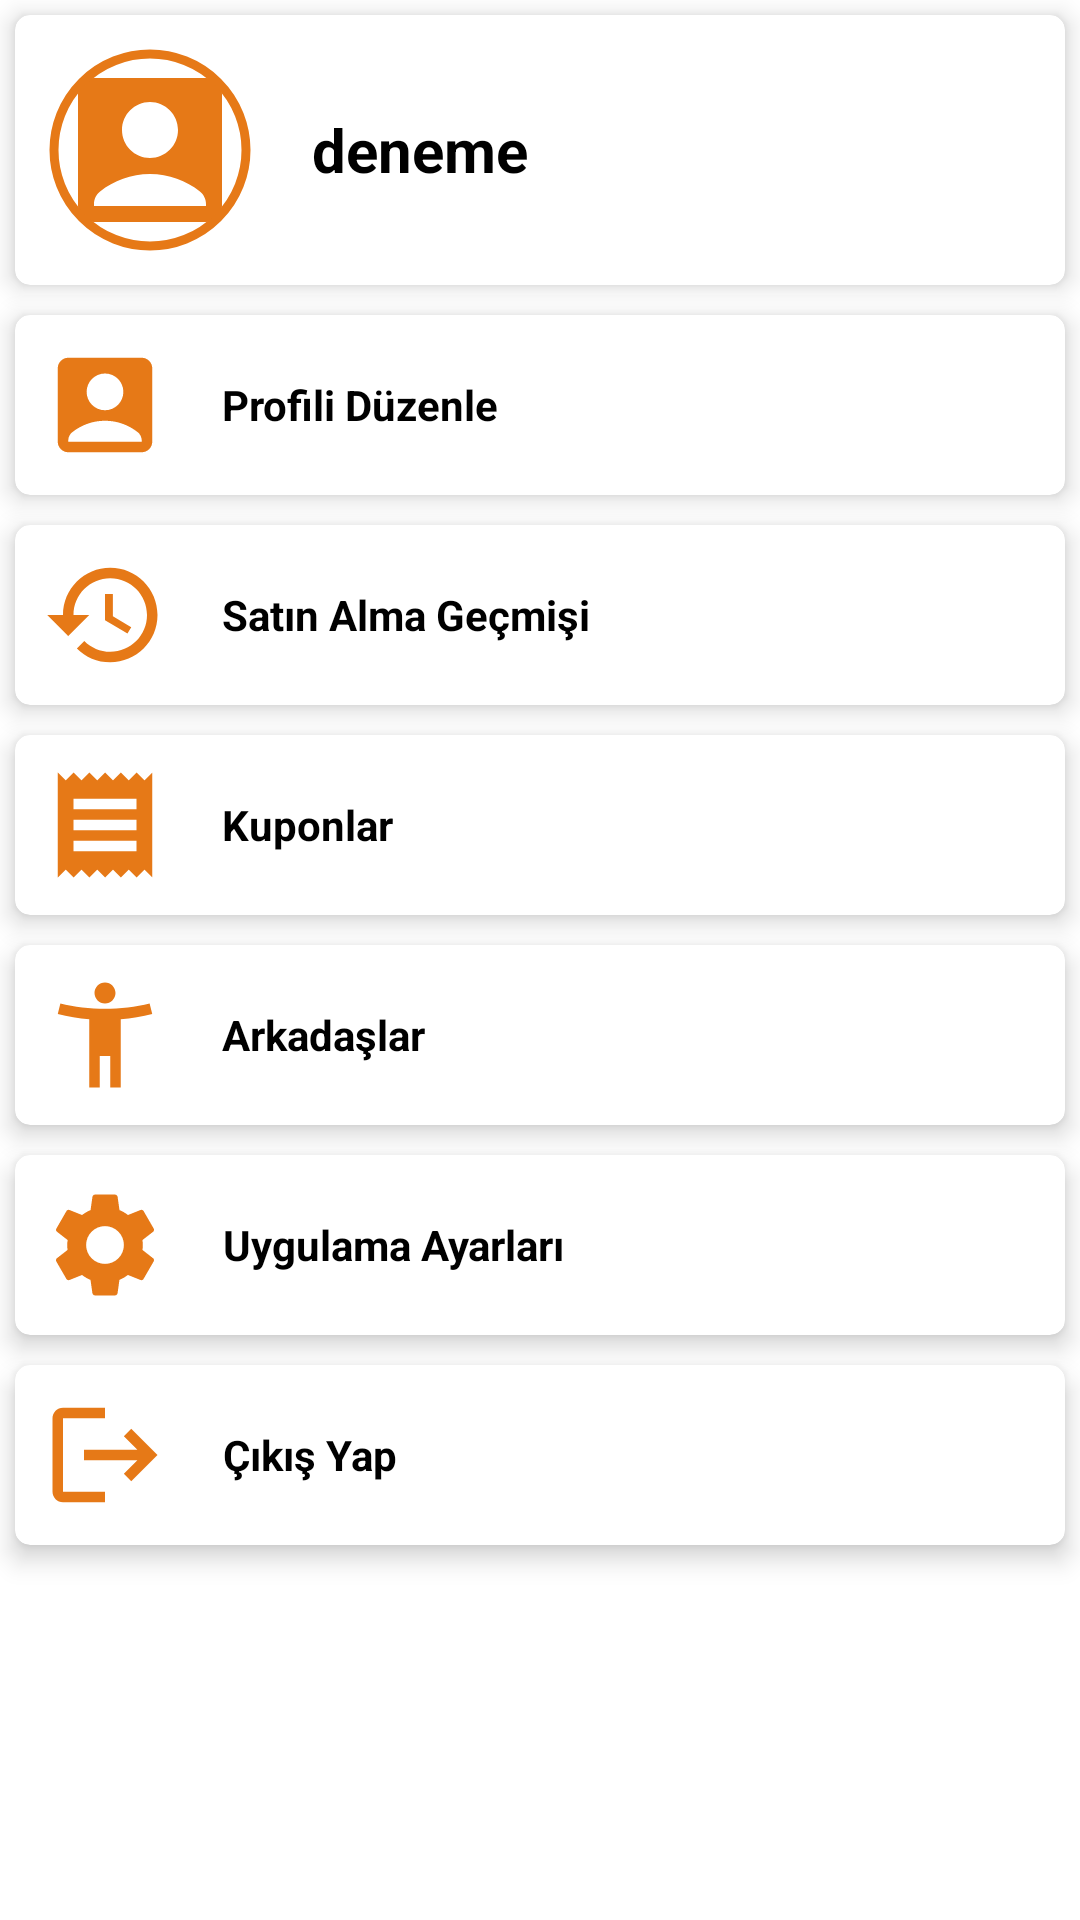

Where icons sit on this 1080x1920 app screen, as (x1, y1, x2, y2):
coupon: (57, 772, 153, 878)
history: (47, 567, 158, 663)
settings: (56, 1194, 154, 1296)
user: (49, 49, 251, 251), (57, 357, 153, 453)
